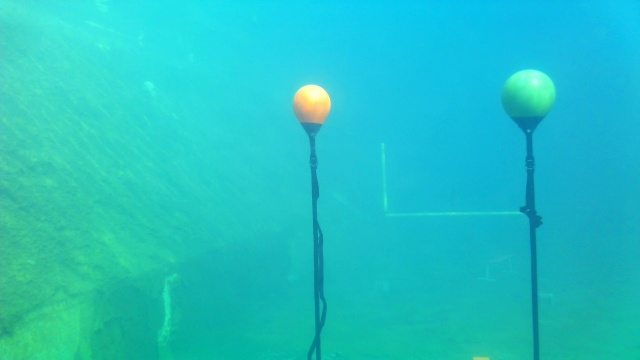buoy_green: (499, 67, 556, 133)
buoy_red: (291, 85, 334, 135)
